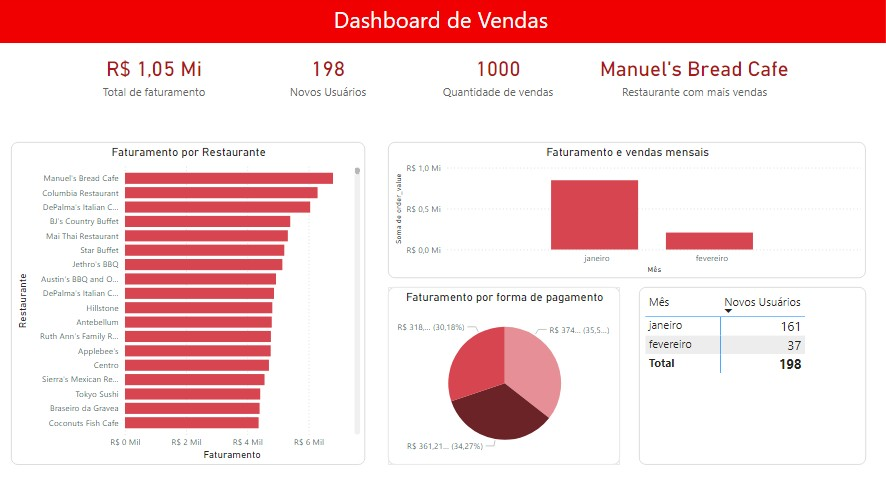

The dashboard page shown, as its layout file describes it:
{"tool":"powerbi","page":{"name":"Página 1","canvas":[1280,720],"ordinal":0},"visuals":[{"type":"shape","box":[0,0,1280.2,67.7],"z":0},{"type":"card","fields":{"Values":["Sum(tb_order_details.order_value)"]},"box":[101.5,67.7,250.6,89.3],"z":1000},{"type":"card","fields":{"Values":["Count(tb_order_details.orderId)"]},"box":[596.2,67.7,250.6,89.3],"z":2000},{"type":"lineClusteredColumnComboChart","title":"Faturamento e vendas mensais","fields":{"Category":["tb_order_details.order_date_time.Variation.Hierarquia de datas.Mês"],"Y":["Sum(tb_order_details.order_value)"]},"box":[563,210.2,688.3,195.8],"z":3000},{"type":"pieChart","fields":{"Category":["tb_order_details.payment_method"],"Y":["Sum(tb_order_details.order_value)"]},"box":[563,419,334.1,256.3],"z":4000},{"type":"clusteredBarChart","fields":{"Category":["tbrestaurant.nameRestaurant"],"Y":["Sum(tb_order_details.order_value)"]},"box":[20.2,210.2,509.8,465.1],"z":5000},{"type":"card","fields":{"Values":["tb_order_details.RestauranteComMaiorFaturamento"]},"box":[853.2,67.7,303.8,89.3],"z":6000},{"type":"card","fields":{"Values":["tb_order_details.NovosUsuarios"]},"box":[352,67.7,250.6,89.3],"z":7000},{"type":"pivotTable","fields":{"Values":["tb_order_details.NovosUsuarios"],"Rows":["tb_order_details.order_date_time.Variation.Hierarquia de datas.Mês"]},"box":[924.5,419,326.9,256.3],"z":8000},{"type":"textbox","box":[465.1,5.8,348.5,57.6],"z":8001}]}

Visuals, with their boxes in screenshot pixels (x1, y1, x2, y2), scaled from the page's 1280x720 canvas onto the 886x492 screenshot:
shape: <bbox>0, 0, 885, 46</bbox>
card - Sum(tb_order_details.order_value): <bbox>70, 46, 244, 107</bbox>
card - Count(tb_order_details.orderId): <bbox>413, 46, 586, 107</bbox>
"Faturamento e vendas mensais" lineClusteredColumnComboChart: <bbox>390, 144, 866, 277</bbox>
pieChart - tb_order_details.payment_method x Sum(tb_order_details.order_value): <bbox>390, 286, 621, 461</bbox>
clusteredBarChart - tbrestaurant.nameRestaurant x Sum(tb_order_details.order_value): <bbox>14, 144, 367, 461</bbox>
card - tb_order_details.RestauranteComMaiorFaturamento: <bbox>591, 46, 801, 107</bbox>
card - tb_order_details.NovosUsuarios: <bbox>244, 46, 417, 107</bbox>
pivotTable - tb_order_details.NovosUsuarios x tb_order_details.order_date_time.Variation.Hierarquia de datas.Mês: <bbox>640, 286, 866, 461</bbox>
textbox: <bbox>322, 4, 563, 43</bbox>
